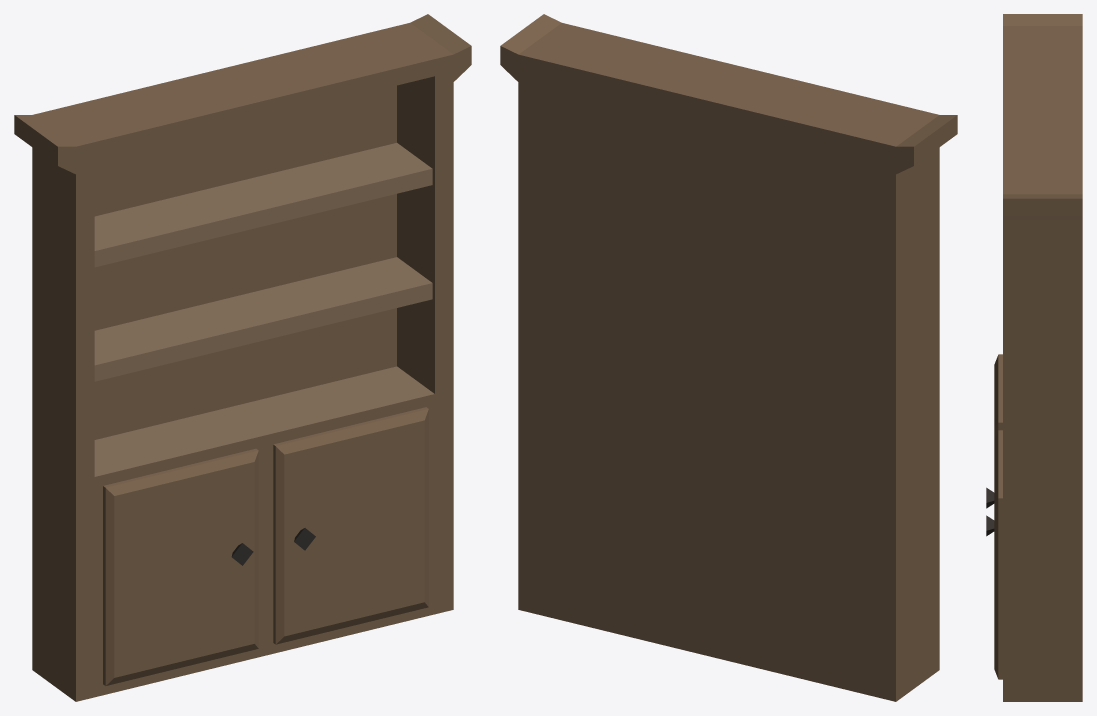
File: Shelves_3B.fbx
The picture shows the model from 3 angles, left to right: view 1: azimuth 30°, elevation 25°; view 2: azimuth 150°, elevation 25°; view 3: azimuth 270°, elevation 25°; orthographic projection. The views are drawn at different scales.
Parts seen in each view (by area): view 1: polySurface2039; view 2: polySurface2039; view 3: polySurface2039.
Part boxes in pixels (x1,y1,x2,y2): polySurface2039: (14, 14, 471, 701); polySurface2039: (500, 14, 957, 701); polySurface2039: (986, 14, 1082, 701).
Size of the model in its own units: 2.65 by 3.43 by 0.584.
1 material, 1 textured.
